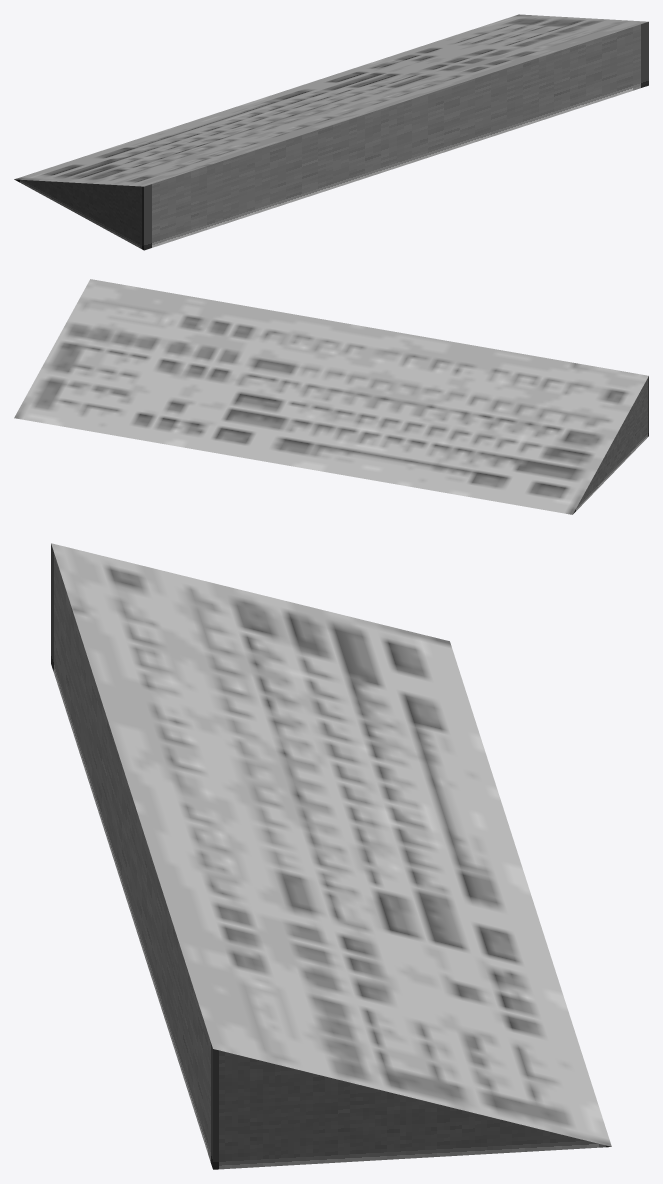
The model's file is primary_056.glb.
3 views of the same model, one above another, from view 1: azimuth 30°, elevation 25°; view 2: azimuth 150°, elevation 25°; view 3: azimuth 270°, elevation 25° (orthographic). The views are drawn at different scales.
Parts seen in each view (by area): view 1: Object; view 2: Object; view 3: Object.
Boxes of the visible parts, left/top/right/bottom form: Object: left=14, top=14, right=648, bottom=250; Object: left=14, top=279, right=648, bottom=514; Object: left=51, top=543, right=611, bottom=1169.
Bounding box in the file's own units: 0.615 × 0.0656 × 0.2758.
4 materials, 4 textured.
